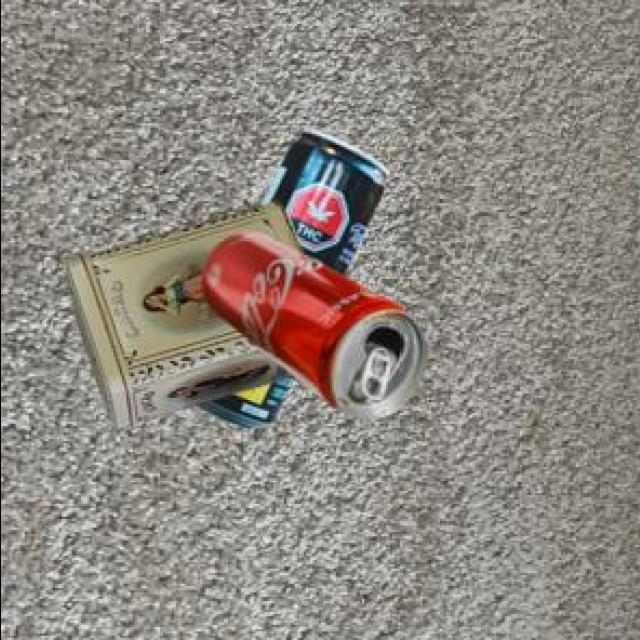logam: (202, 126, 390, 423), (68, 196, 304, 425), (204, 230, 429, 416)
